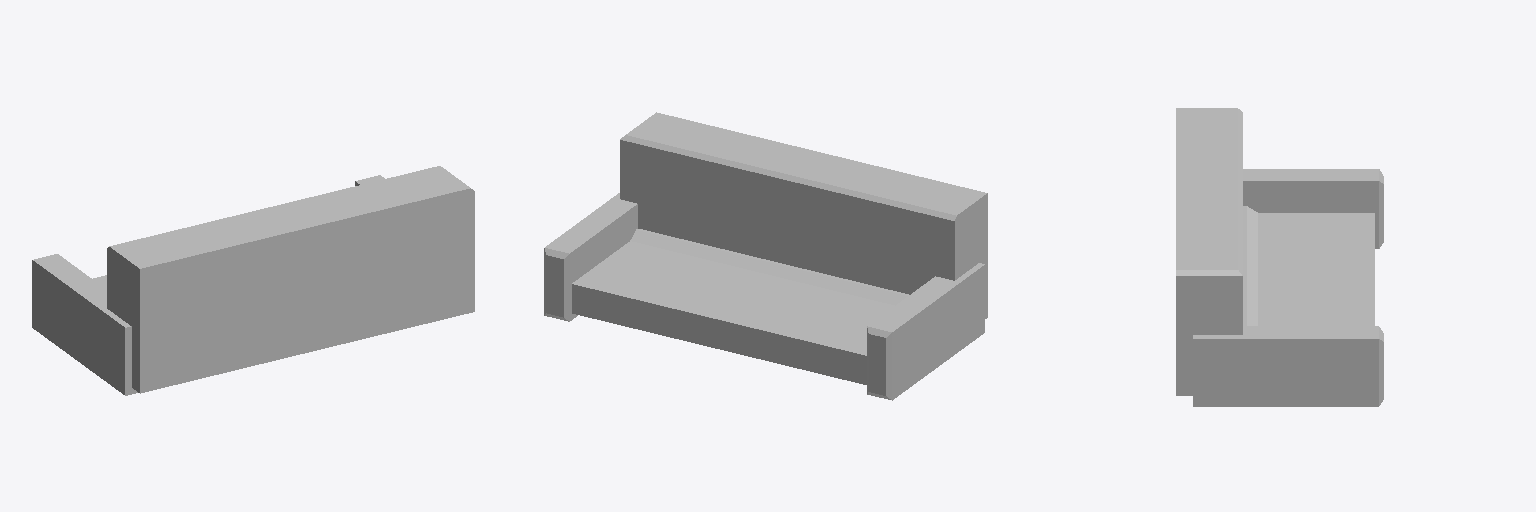
The model's file is lowpolycouch1.obj.
3 views of the same model, side by side, from view 1: azimuth 30°, elevation 25°; view 2: azimuth 150°, elevation 25°; view 3: azimuth 270°, elevation 25° (orthographic).
Visible parts, largest first — view 1: Cube, Cube.002; view 2: Cube, Cube.002, Cube.003, Cube.001; view 3: Cube, Cube.003, Cube.002, Cube.001.
Boxes of the visible parts, x1=… form: Cube: x1=93, y1=166, x2=474, y2=393; Cube.002: x1=32, y1=254, x2=137, y2=395; Cube: x1=572, y1=112, x2=987, y2=384; Cube.002: x1=867, y1=263, x2=984, y2=400; Cube.003: x1=544, y1=193, x2=637, y2=321; Cube.001: x1=630, y1=229, x2=908, y2=305; Cube: x1=1176, y1=108, x2=1374, y2=395; Cube.003: x1=1193, y1=326, x2=1383, y2=406; Cube.002: x1=1243, y1=169, x2=1383, y2=248; Cube.001: x1=1243, y1=206, x2=1257, y2=325.
Bounding box in the file's own units: 12.85 × 4.65 × 6.63.